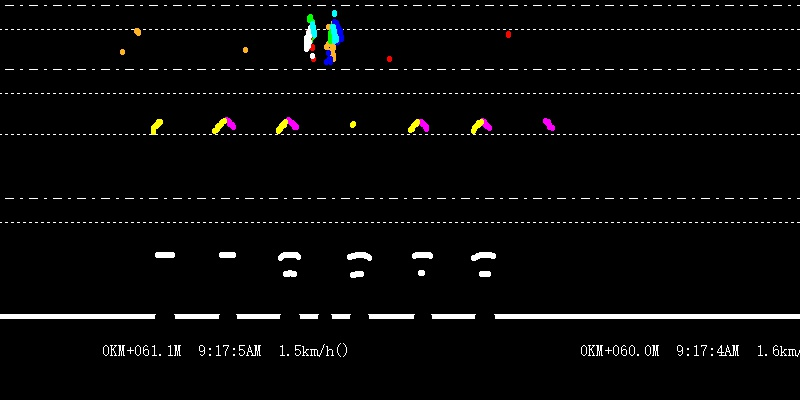J: (301, 4, 345, 65)
face_1: (133, 25, 143, 40)
